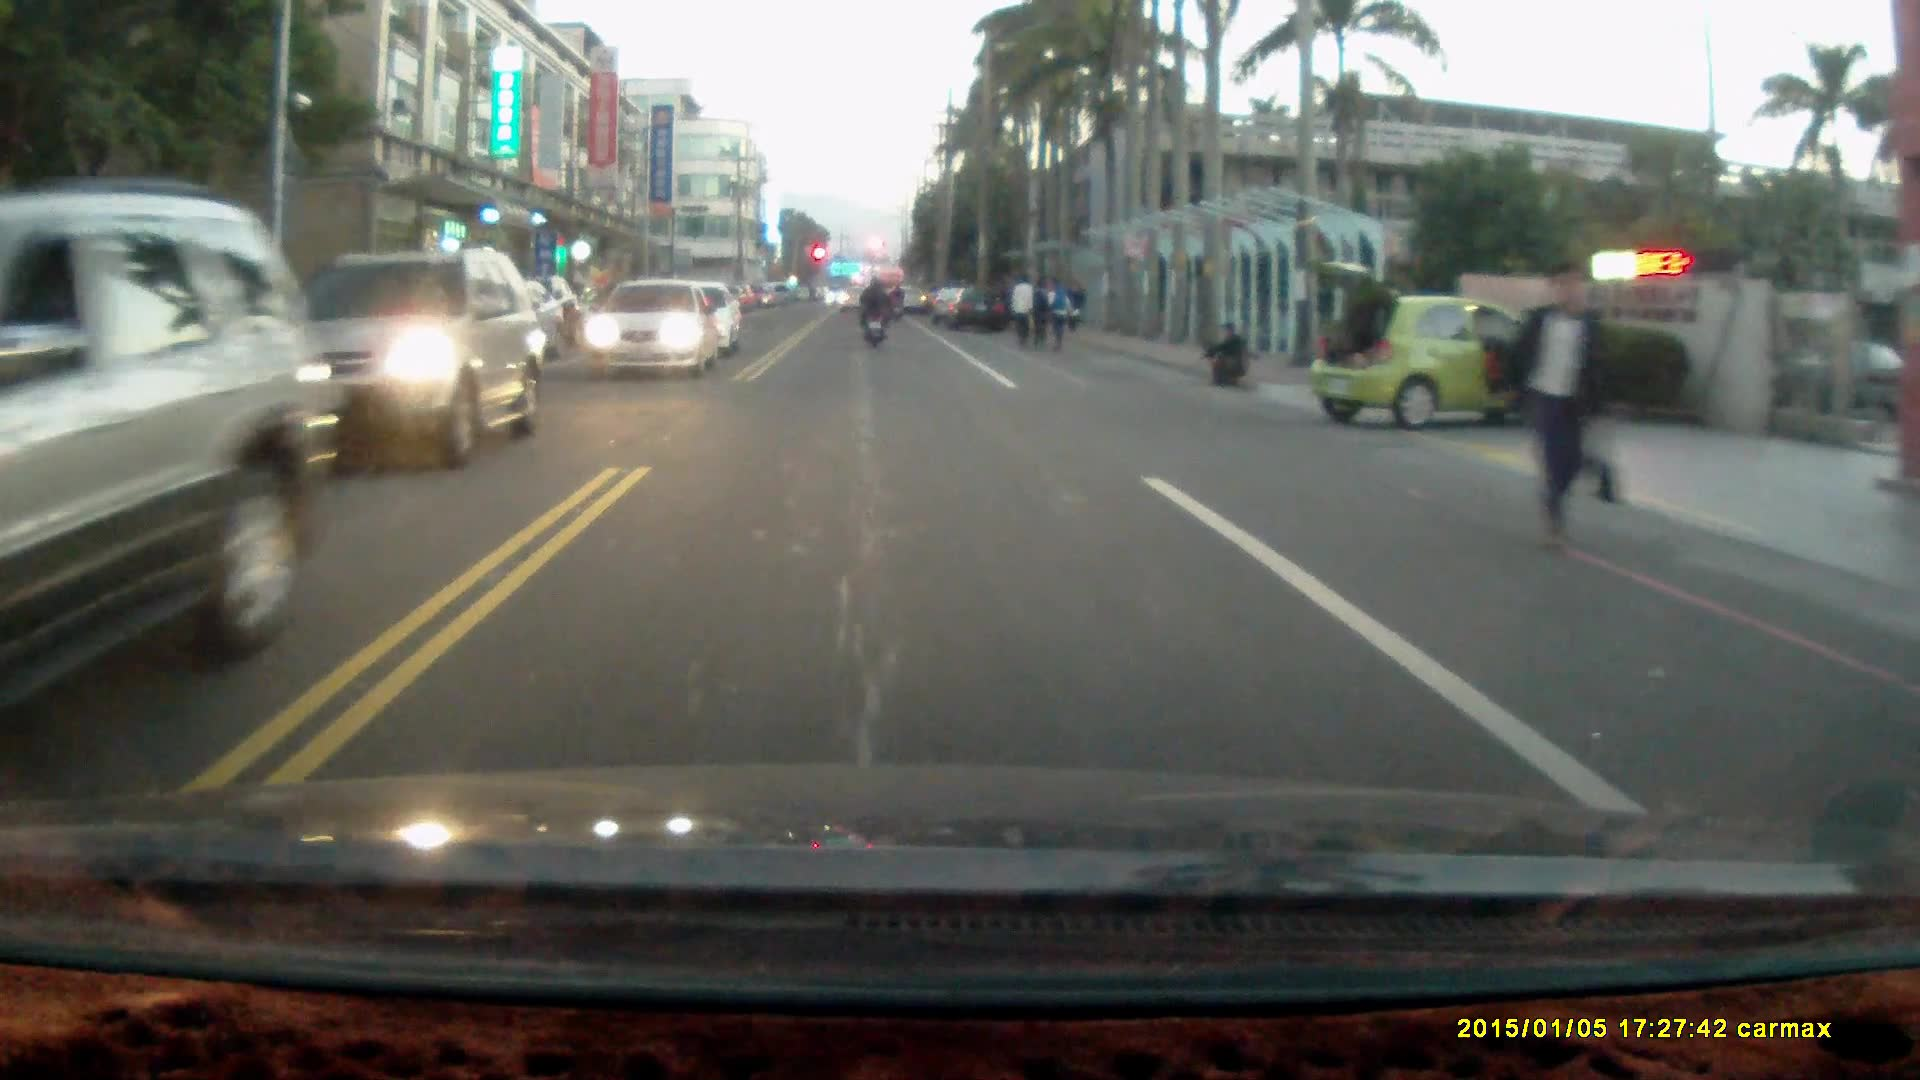pedestrian: (1501, 260, 1617, 556), (1205, 323, 1251, 392), (1041, 275, 1074, 351), (1009, 277, 1035, 357), (1028, 282, 1054, 355)
rider: (854, 274, 890, 349)
vehicle: (1, 186, 336, 803), (232, 250, 548, 475), (1308, 263, 1571, 434), (581, 282, 717, 383), (946, 282, 1007, 334)
